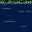Interaction: (0, 0, 32, 7)
Slow: (0, 4, 32, 32)
